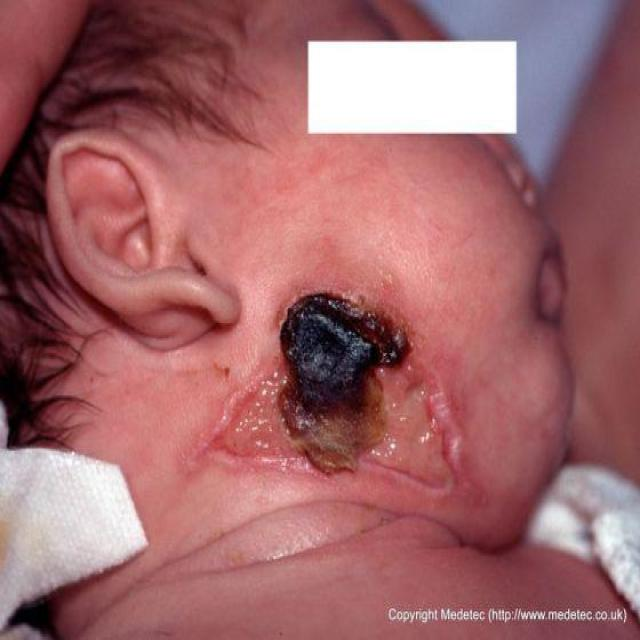Unstageable: (214, 292, 460, 486)
